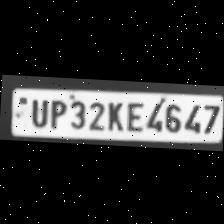2: (84, 96, 106, 130)
3: (66, 96, 86, 128)
4: (181, 100, 203, 132), (144, 97, 164, 130)
6: (162, 98, 182, 132)
7: (199, 100, 221, 134)
E: (122, 97, 144, 131)
K: (102, 97, 124, 130)
P: (46, 96, 66, 128)
U: (26, 93, 48, 126)
